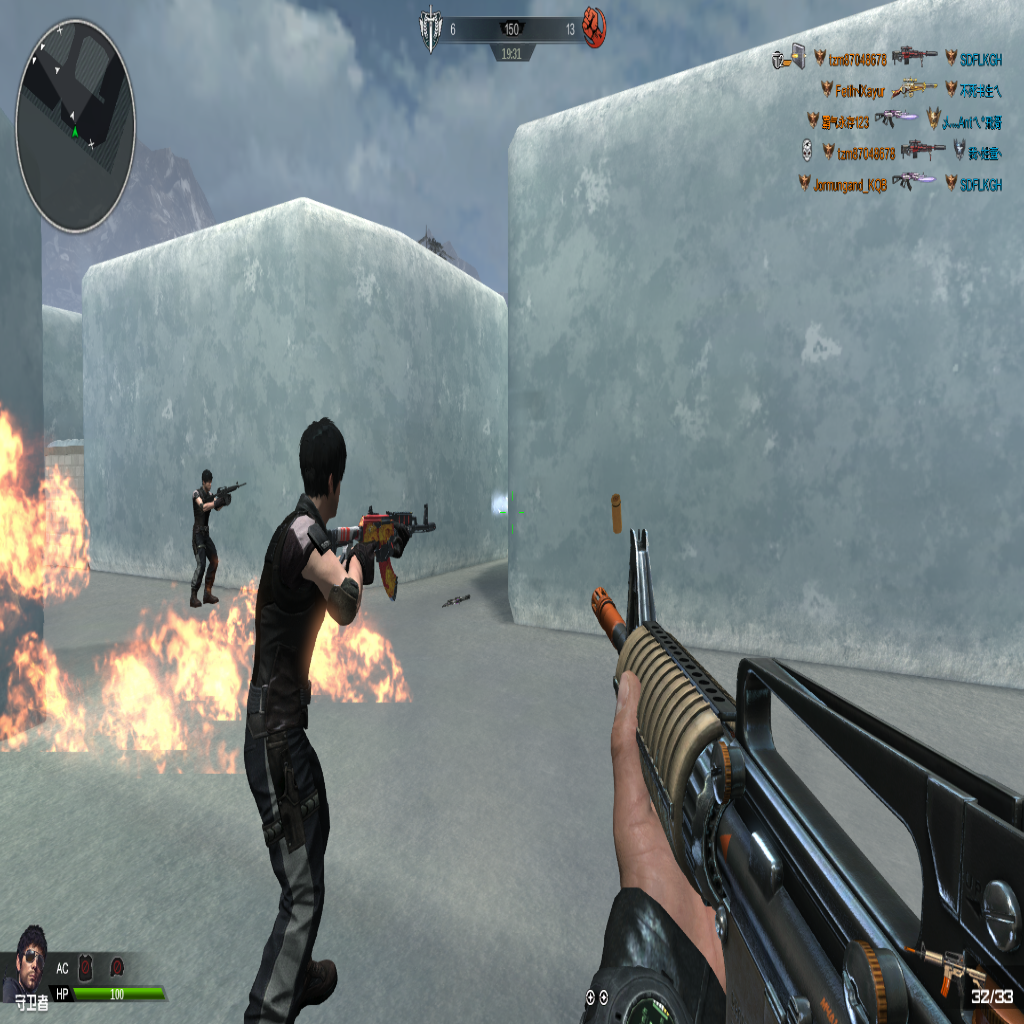ct: (190, 469, 231, 607)
